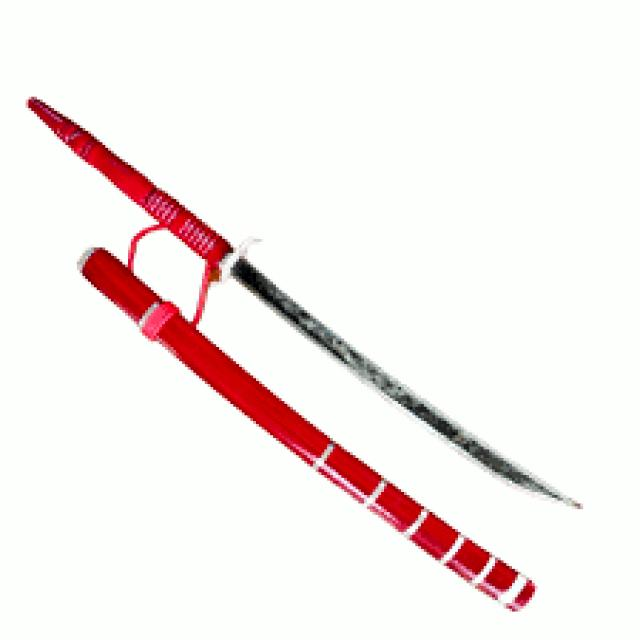long sword: (25, 92, 583, 508)
